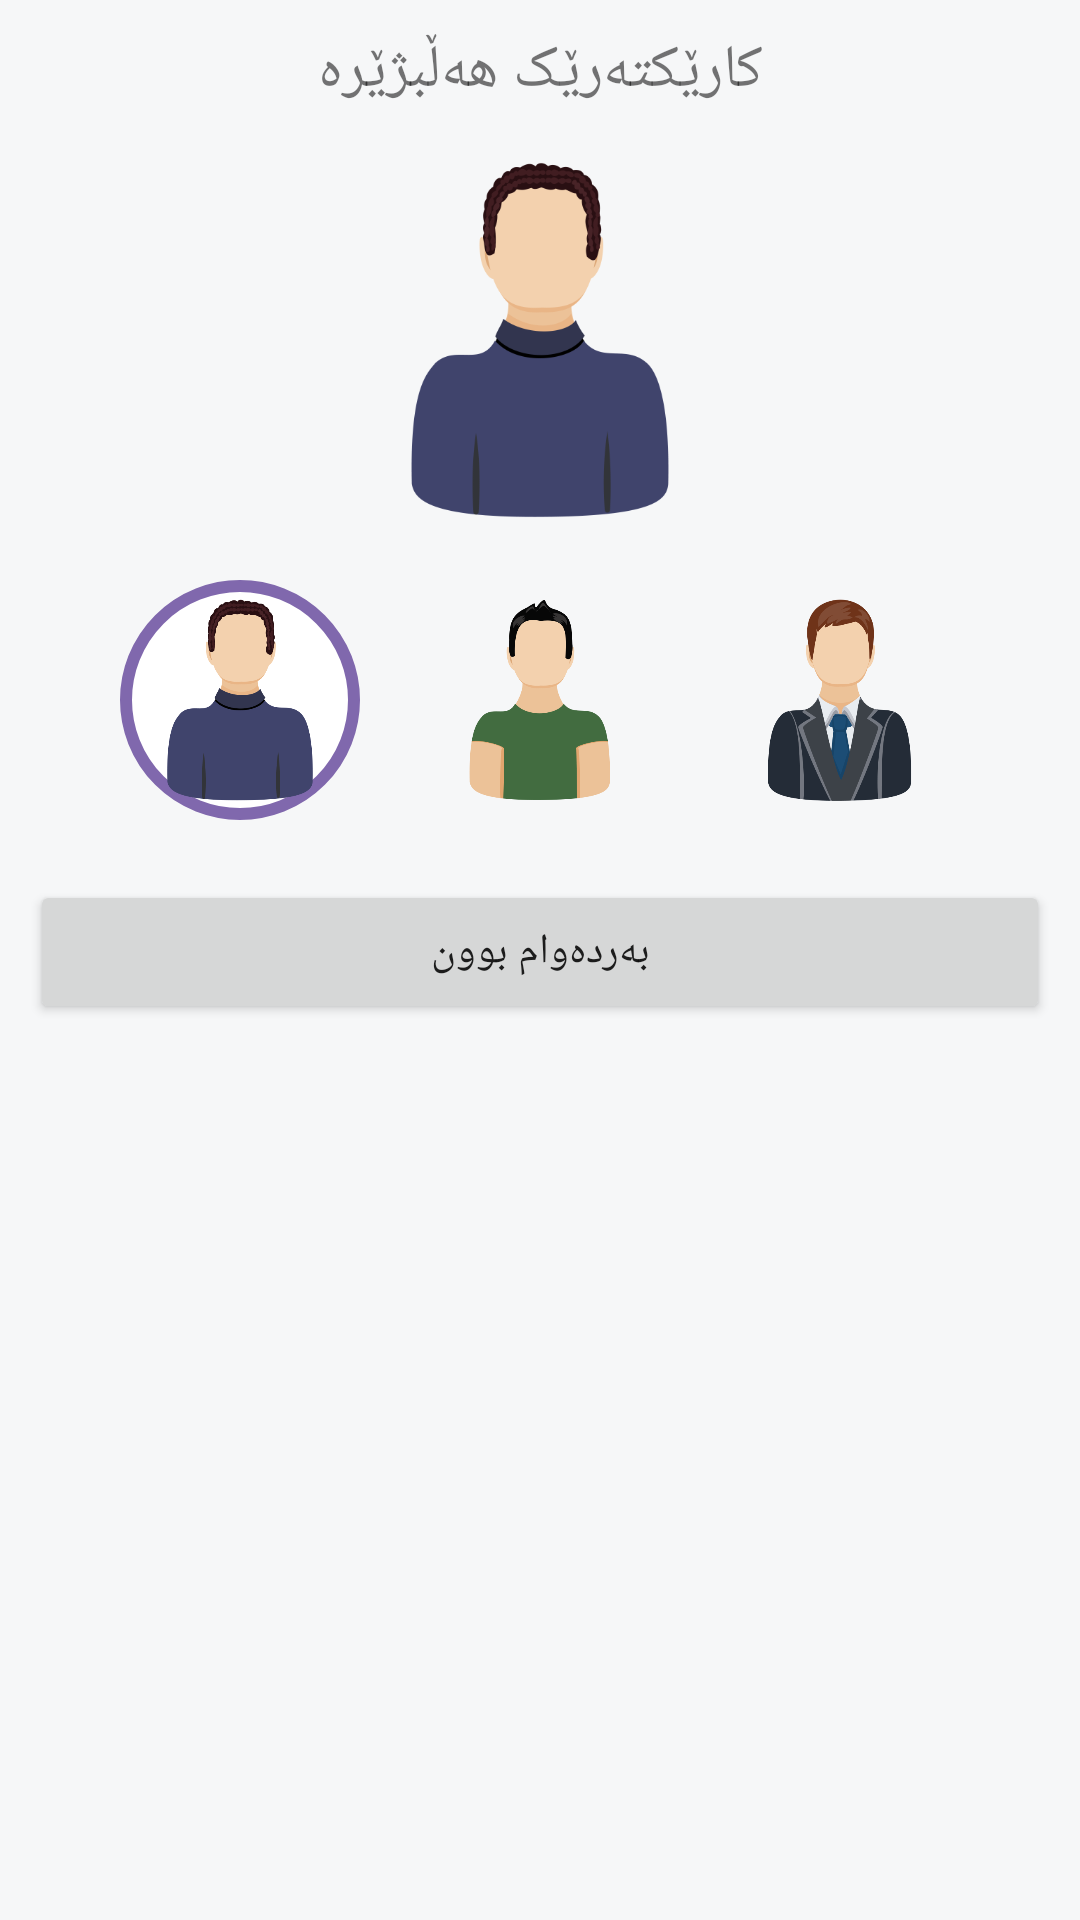

Locate icon controls on the screen. Image size 1080px×1920px, boxes as region(x1, y1, x2, y2).
man: region(411, 163, 669, 517), region(120, 580, 360, 820), region(768, 599, 911, 801), region(469, 600, 610, 800)
